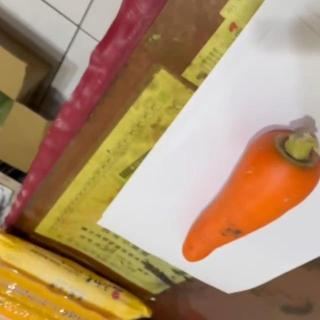carrot: (180, 126, 320, 263)
